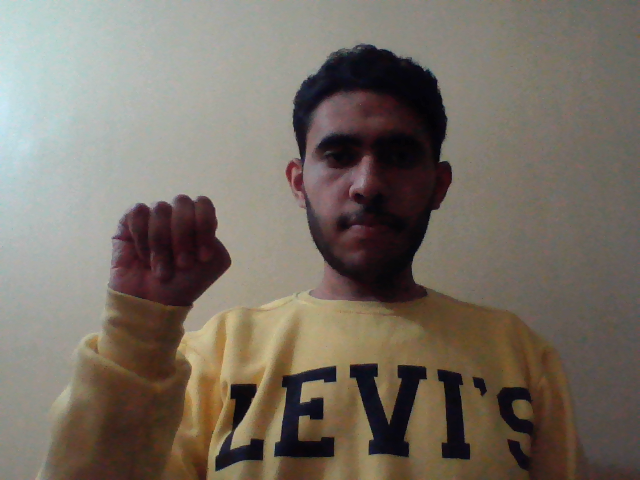M: (106, 193, 238, 312)
